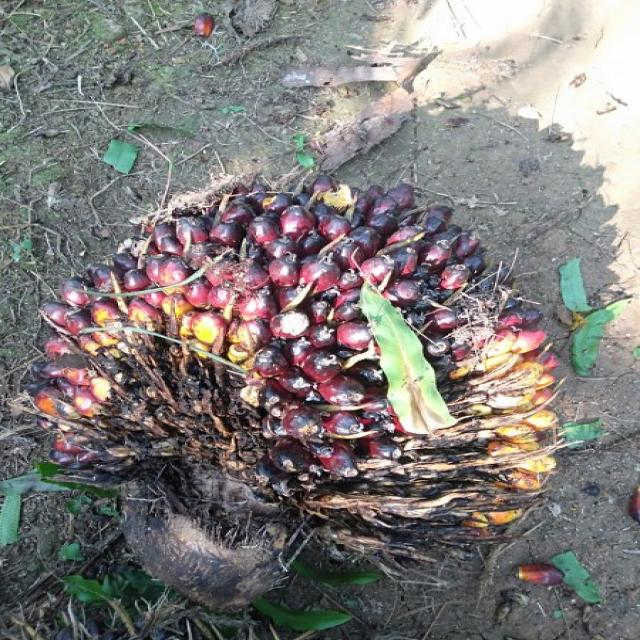fraksi 1: (8, 154, 587, 625)
